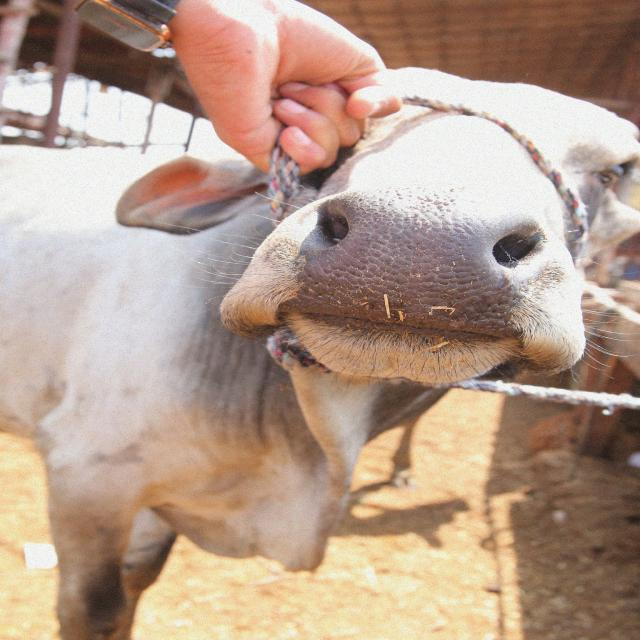muzzles: (284, 183, 556, 353)
